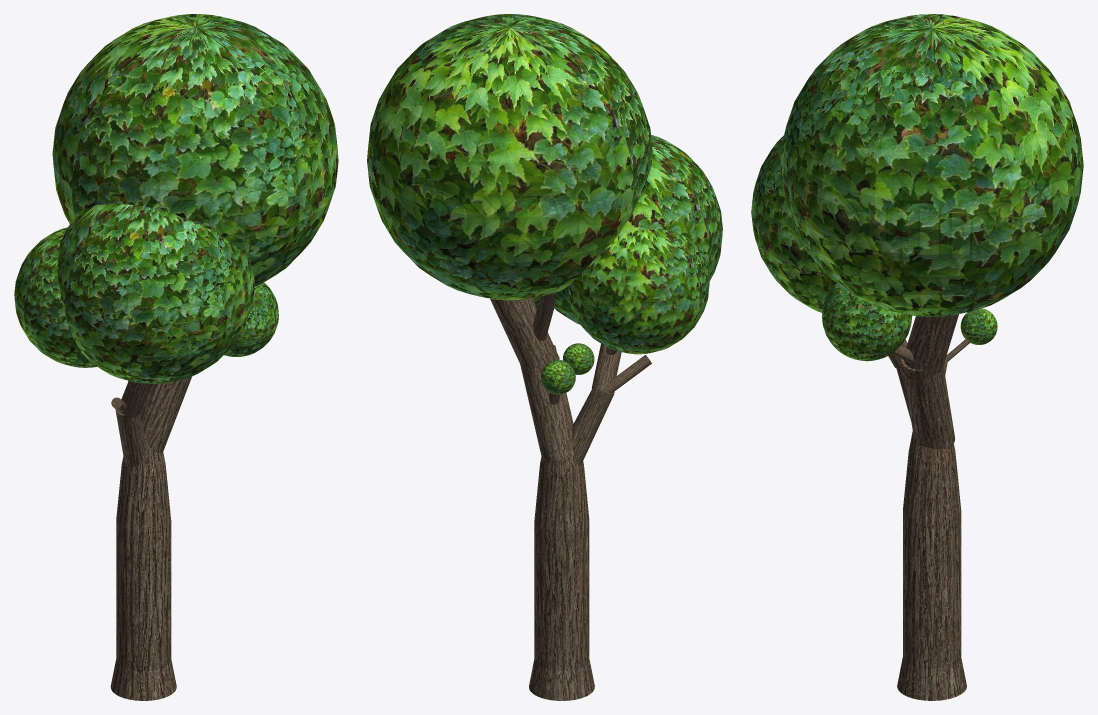
Rendered from happylittletree2.glb.
3 renders of one model, left to right at view 1: azimuth 30°, elevation 25°; view 2: azimuth 150°, elevation 25°; view 3: azimuth 270°, elevation 25°, orthographic. The views are drawn at different scales.
Visible parts, largest first — view 1: Sphere, Sphere.001, Cylinder, Sphere.004, Cylinder.003, Sphere.002, Cylinder.002, Cylinder.005; view 2: Sphere, Sphere.004, Cylinder, Sphere.001, Cylinder.003, Cylinder.006, Cylinder.002, Sphere.006, Cylinder.005, Cylinder.001, Sphere.005, Cylinder.011; view 3: Sphere, Cylinder, Sphere.001, Sphere.002, Cylinder.003, Cylinder.006, Sphere.006.
Boxes of the visible parts, bbox=[...] form: Sphere: bbox=[52, 14, 338, 286]; Sphere.001: bbox=[58, 203, 254, 383]; Cylinder: bbox=[110, 444, 176, 700]; Sphere.004: bbox=[14, 227, 96, 367]; Cylinder.003: bbox=[139, 376, 191, 452]; Sphere.002: bbox=[224, 282, 278, 356]; Cylinder.002: bbox=[115, 409, 146, 467]; Cylinder.005: bbox=[121, 381, 150, 418]; Sphere: bbox=[367, 14, 652, 300]; Sphere.004: bbox=[568, 229, 709, 354]; Cylinder: bbox=[529, 442, 594, 700]; Sphere.001: bbox=[554, 135, 722, 324]; Cylinder.003: bbox=[520, 345, 574, 461]; Cylinder.006: bbox=[490, 298, 559, 367]; Cylinder.002: bbox=[571, 385, 614, 464]; Sphere.006: bbox=[541, 360, 575, 394]; Cylinder.005: bbox=[591, 343, 621, 390]; Cylinder.001: bbox=[533, 293, 555, 340]; Sphere.005: bbox=[563, 343, 594, 374]; Cylinder.011: bbox=[604, 355, 651, 393]; Sphere: bbox=[780, 14, 1083, 316]; Cylinder: bbox=[897, 431, 966, 700]; Sphere.001: bbox=[751, 135, 836, 312]; Sphere.002: bbox=[822, 283, 911, 361]; Cylinder.003: bbox=[901, 359, 955, 449]; Cylinder.006: bbox=[901, 314, 958, 382]; Sphere.006: bbox=[960, 308, 997, 344].
Size of the model in its own units: 3.2 by 6.48 by 2.85.
Materials: 11 (11 with a texture image).
